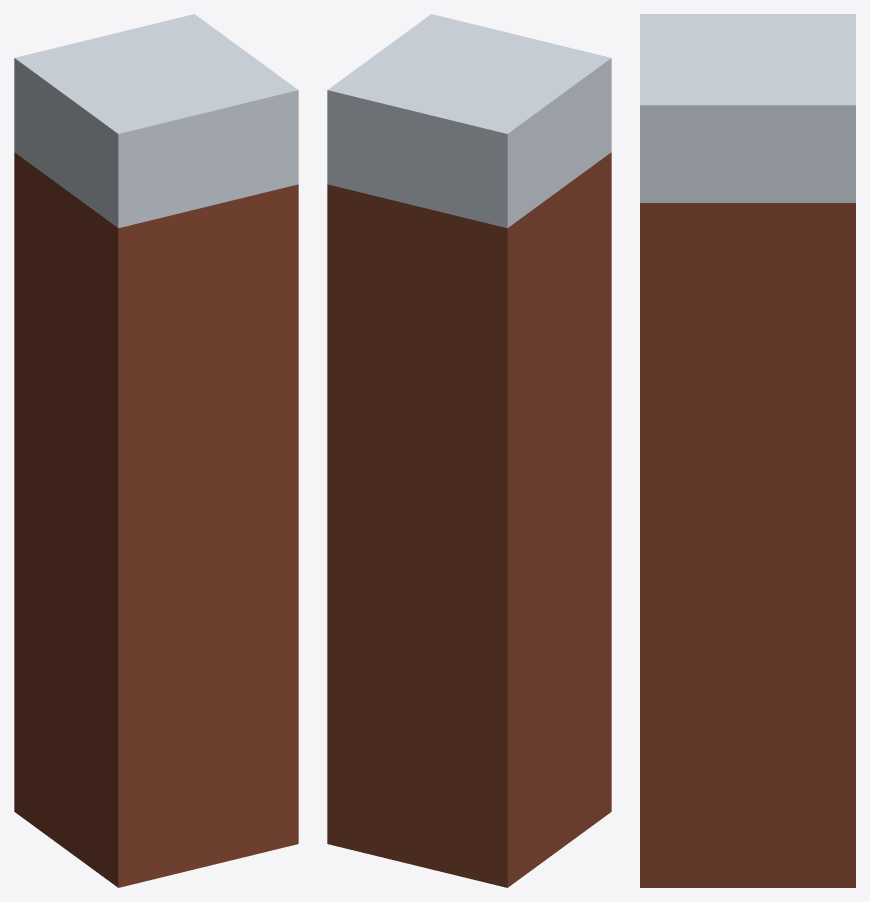
Rendered from wood-pillar-with-snow.obj.
3 renders of one model, left to right at view 1: azimuth 30°, elevation 25°; view 2: azimuth 150°, elevation 25°; view 3: azimuth 270°, elevation 25°, orthographic. The views are drawn at different scales.
Size of the model in its own units: 2 by 8 by 2.
1 material, 1 textured.
